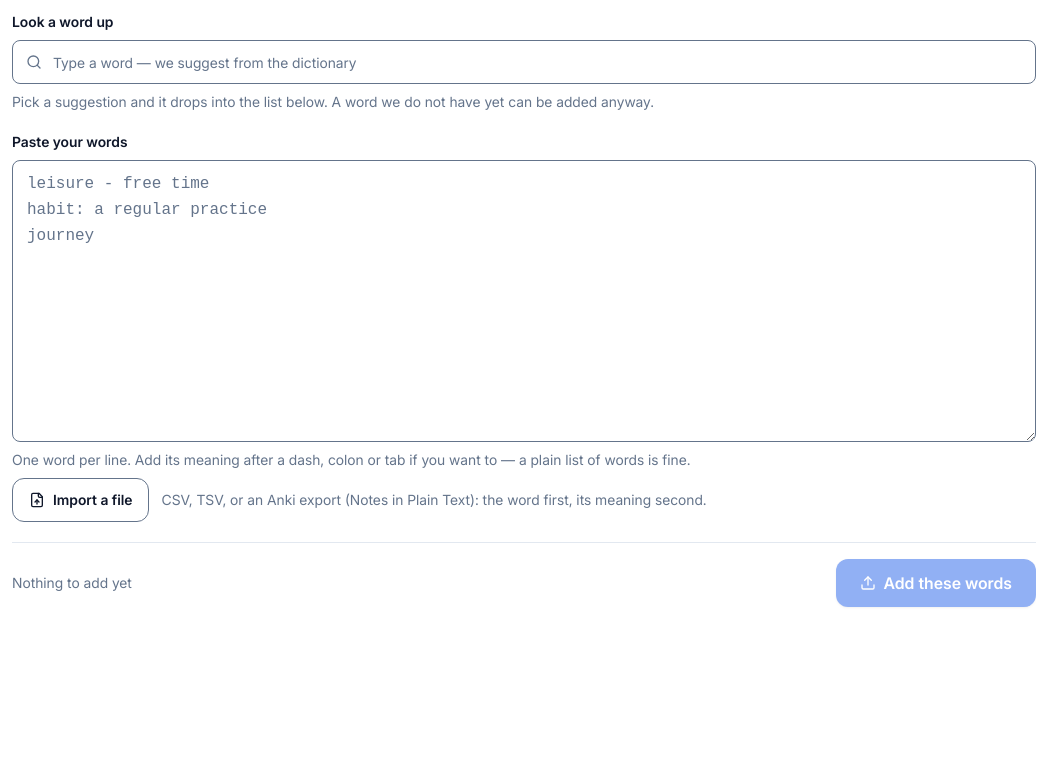
Scenario: Adding a word with suggestions › drops the chosen word into the list rather than submitting on its own
Type "wor" into the dropdown.
click(524, 62); type("wor")  # box [12,40,1036,84]
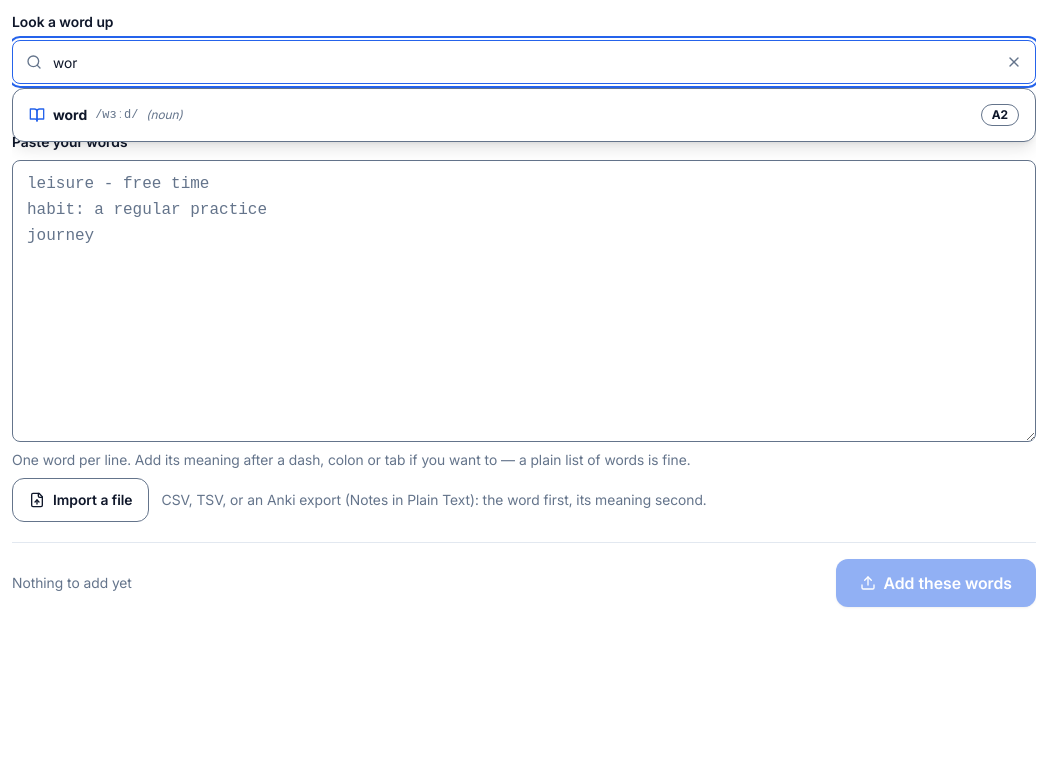
Click the text "word".
click(70, 115)  # box [53,105,87,125]
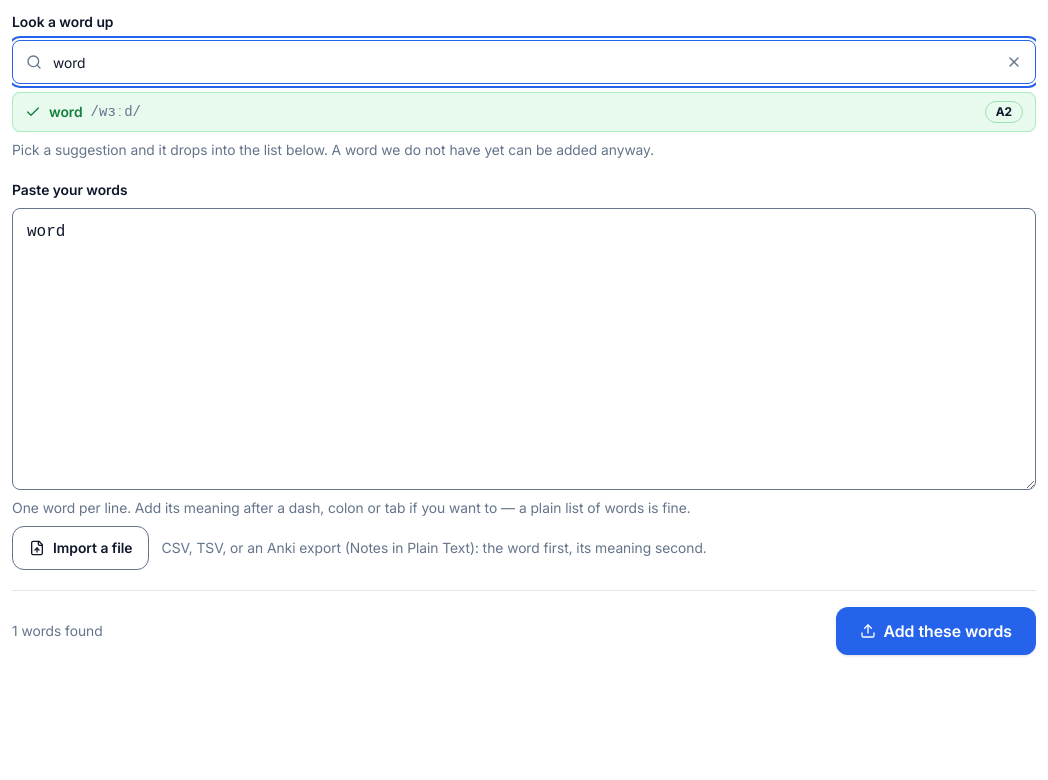
Expected: the text box labelled "Paste your words" holds "word ", [12,208,1036,490]
